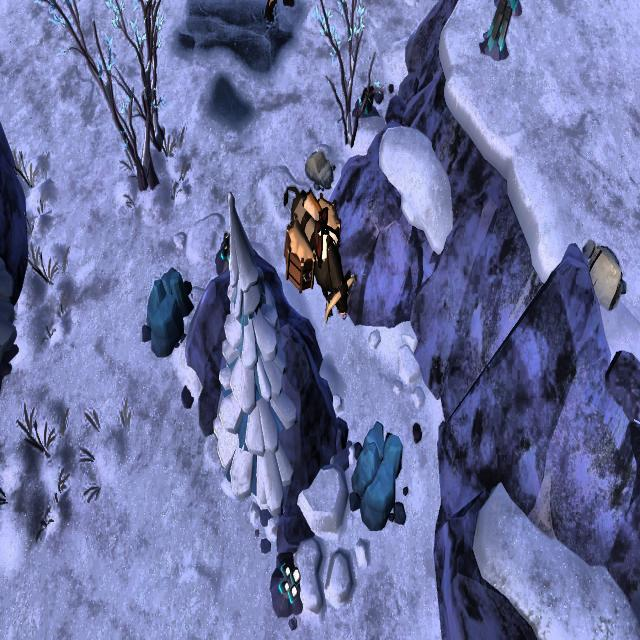ore_t4: (486, 0, 514, 54), (276, 558, 300, 604), (218, 231, 234, 268)
rock_t4: (352, 417, 403, 535), (139, 268, 193, 356)
